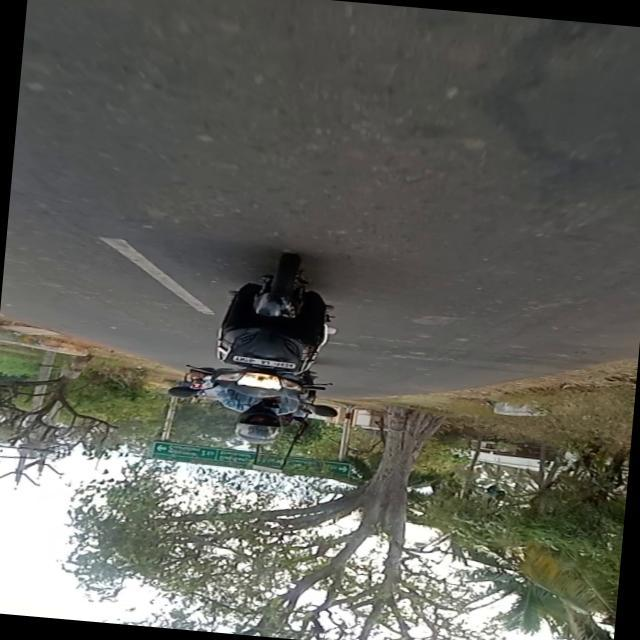USING_MOBILE: (232, 394, 294, 445)
